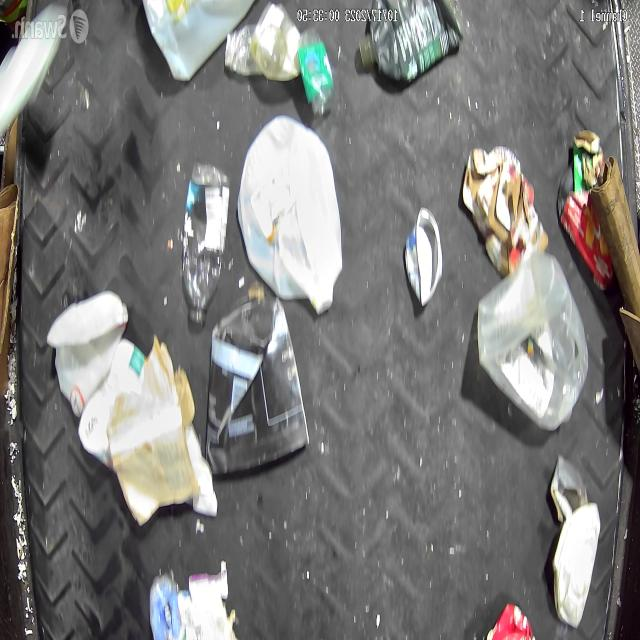milk_jug: (236, 119, 342, 308), (477, 251, 587, 431), (46, 291, 128, 417), (552, 502, 601, 628)
non_white_jug: (206, 298, 310, 476)
plastic_bottle: (180, 161, 228, 327)
